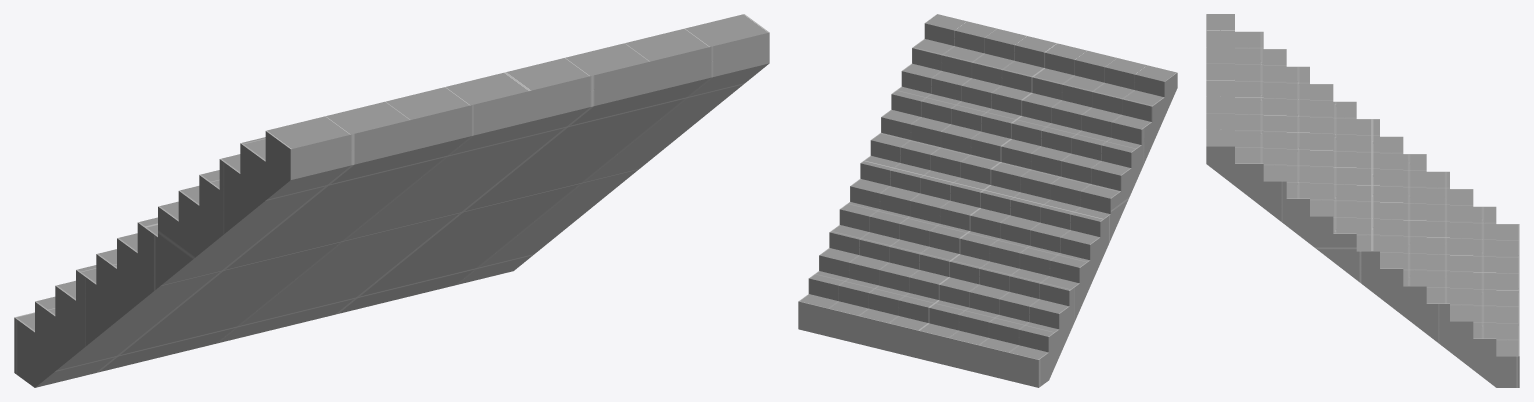
The model's file is proto_stair_02.fbx.
3 renders of one model, left to right at view 1: azimuth 30°, elevation 25°; view 2: azimuth 150°, elevation 25°; view 3: azimuth 270°, elevation 25°, orthographic. The views are drawn at different scales.
Parts seen in each view (by area): view 1: proto_stair_02; view 2: proto_stair_02; view 3: proto_stair_02.
Part boxes in pixels (x1,y1,x2,y2): proto_stair_02: [14, 14, 769, 387]; proto_stair_02: [798, 14, 1177, 387]; proto_stair_02: [1206, 14, 1519, 387].
Size of the model in its own units: 200 by 170 by 200.
